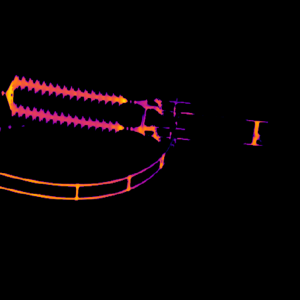insulator: (7, 71, 127, 133)
